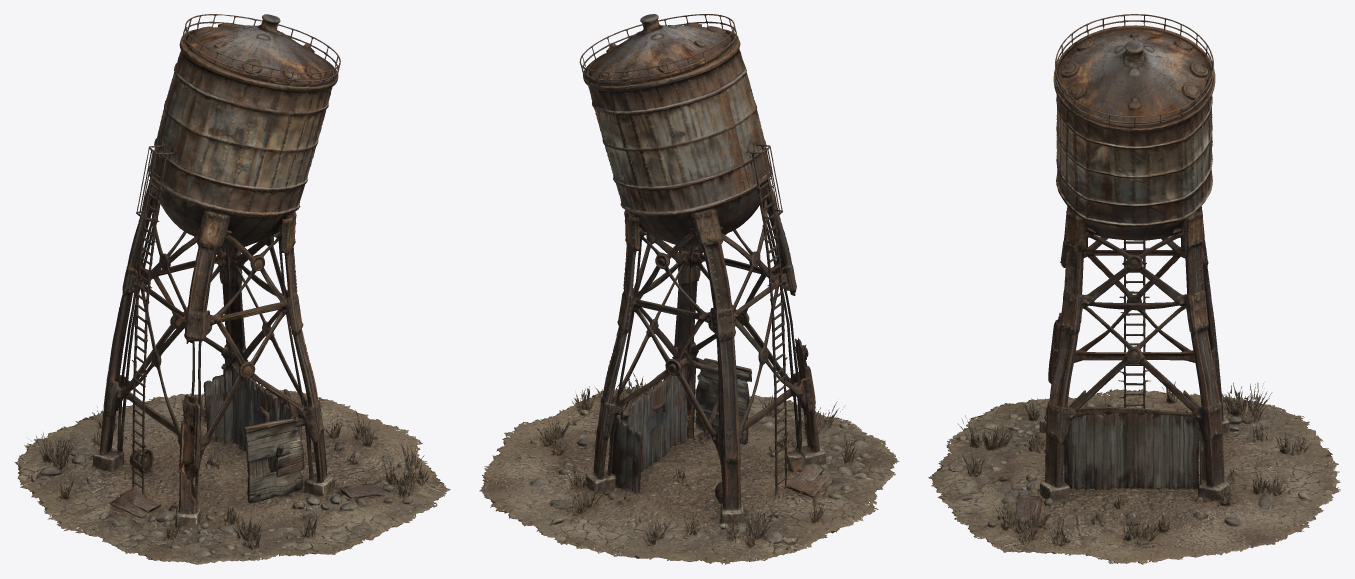
File: wt_lean.glb
3 renders of one model, left to right at view 1: azimuth 30°, elevation 25°; view 2: azimuth 150°, elevation 25°; view 3: azimuth 270°, elevation 25°, orthographic.
Visible parts, largest first — view 1: wt_lean; view 2: wt_lean; view 3: wt_lean.
Part boxes in pixels (x1,y1,x2,y2): wt_lean: [14, 14, 450, 564]; wt_lean: [479, 14, 899, 564]; wt_lean: [928, 14, 1340, 564].
Bounding box in the file's own units: 158 × 190 × 156.
Materials: 1 (1 with a texture image).
